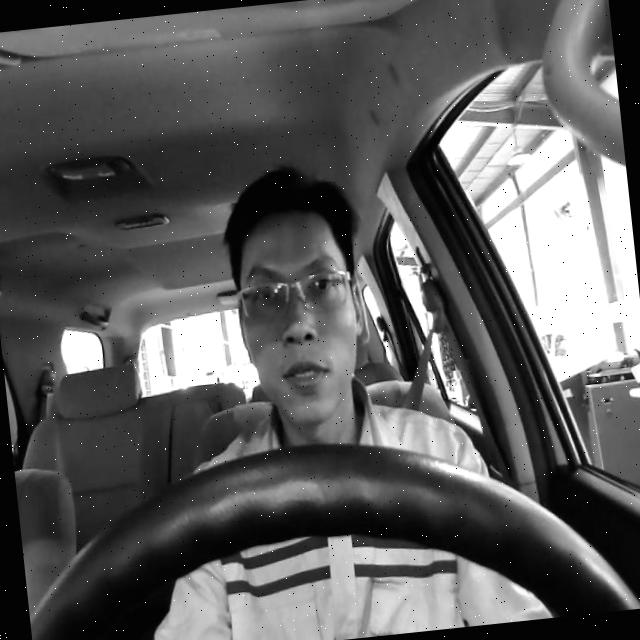focused: (223, 206, 374, 431)
